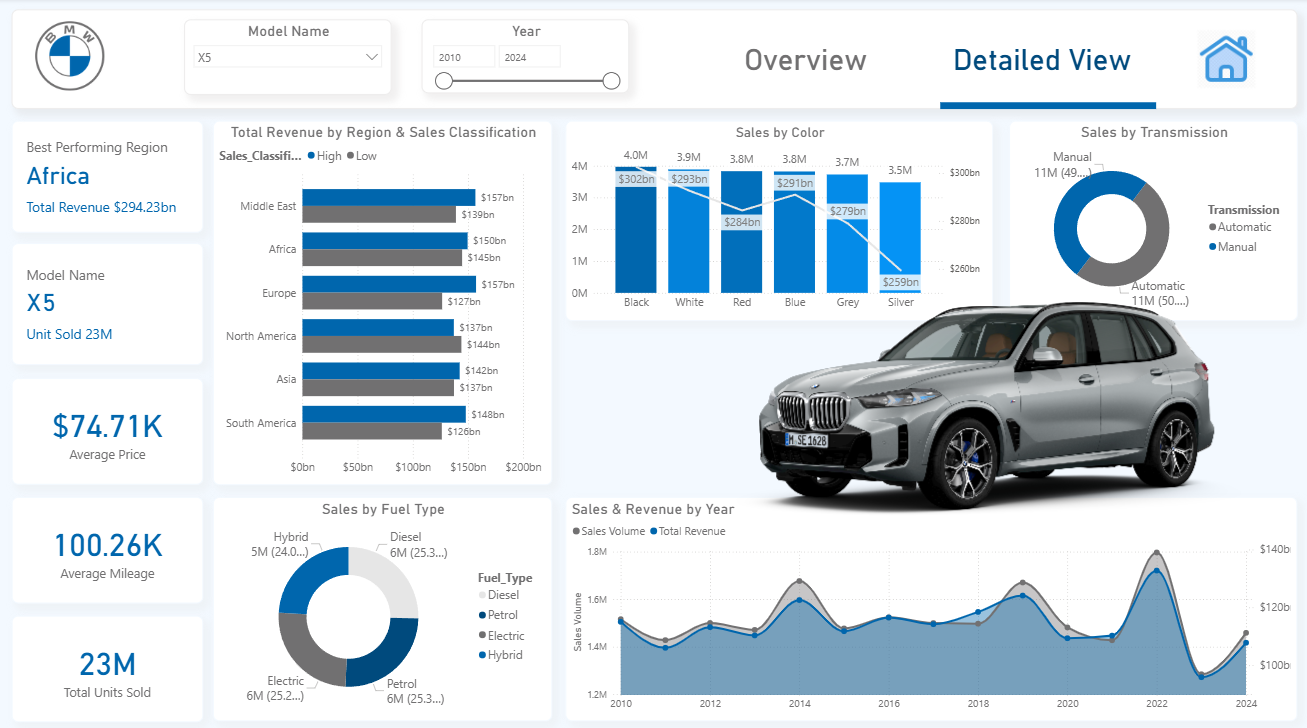

What the dashboard file says about the page in this screenshot:
{"tool":"powerbi","page":{"name":"Detailed View","canvas":[1920,1080],"ordinal":2},"visuals":[{"type":"cardVisual","fields":{"Data":["Min(BMW_Car_Sales_Classification.Region)"]},"box":[18.5,179.1,282,164.7],"z":0},{"type":"card","fields":{"Values":["Measures Table.Average Price"]},"box":[18.5,557.8,282,156.4],"z":1000},{"type":"cardVisual","fields":{"Data":["Min(BMW_Car_Sales_Classification.Model)"]},"box":[18.5,360.2,282,179.1],"z":2000},{"type":"card","fields":{"Values":["Measures Table.Average Mileage"]},"box":[18.5,732.8,282,156.4],"z":3000},{"type":"shape","box":[18.5,16.5,1887.5,146.1],"z":4000},{"type":"card","fields":{"Values":["Measures Table.Total Units Sold"]},"box":[18.5,905.7,282,156.4],"z":5000},{"type":"image","box":[45.3,28.8,115.3,111.1],"z":6000},{"type":"textbox","box":[1035.3,59.7,298.5,80.3],"z":7000},{"type":"shape","box":[1381.1,113,317,88.5],"z":8000},{"type":"textbox","box":[1362.6,59.7,335.5,80.3],"z":9000},{"type":"image","box":[1751.6,35,98.8,109.1],"z":10000},{"type":"lineChart","title":"Sales & Revenue by Year","fields":{"Category":["BMW_Car_Sales_Classification.Year"],"Y":["Sum(BMW_Car_Sales_Classification.Sales_Volume)"],"Y2":["Measures Table.Total Revenue"]},"box":[831.6,732.8,1074.4,329.3],"z":11000},{"type":"lineStackedColumnComboChart","title":"Sales by Color","fields":{"Category":["BMW_Car_Sales_Classification.Color"],"Y":["Sum(BMW_Car_Sales_Classification.Sales_Volume)"],"Y2":["Measures Table.Total Revenue"]},"box":[831.6,179.1,627.8,294.3],"z":12000},{"type":"donutChart","title":"Sales by Fuel Type","fields":{"Category":["BMW_Car_Sales_Classification.Fuel_Type"],"Y":["Sum(BMW_Car_Sales_Classification.Sales_Volume)"]},"box":[312.9,732.8,498.1,329.3],"z":13000},{"type":"slicer","title":"Model Name","fields":{"Values":["BMW_Car_Sales_Classification.Model"]},"box":[271.7,30.9,304.6,111.1],"z":14000},{"type":"slicer","title":"Year","fields":{"Values":["BMW_Car_Sales_Classification.Year"]},"box":[619.6,30.9,304.6,109.1],"z":15000},{"type":"shape","box":[1035.3,20.6,298.5,144.1],"z":16000},{"type":"clusteredBarChart","title":"Total Revenue by Region & Sales Classification","fields":{"Category":["BMW_Car_Sales_Classification.Region"],"Y":["Measures Table.Total Revenue"],"Series":["BMW_Car_Sales_Classification.Sales_Classification"]},"box":[312.9,179.1,498.1,535.2],"z":17000},{"type":"donutChart","title":"Sales by Transmission","fields":{"Category":["BMW_Car_Sales_Classification.Transmission"],"Y":["Sum(BMW_Car_Sales_Classification.Sales_Volume)"]},"box":[1482,179.1,424,294.3],"z":18000},{"type":"imageDB603108E3FF4EBFB8047F5653368E8C","fields":{"imageUrl":["BMW Images.URL"],"imageTitle":["BMW_Car_Sales_Classification.Model"]},"box":[983.9,360.2,922.1,428.1],"z":19000}]}

Visuals, with their boxes in screenshot pixels (x1, y1, x2, y2), scaled from the page's 1920x1080 canvas onto the 1307x728 screenshot:
cardVisual - Min(BMW_Car_Sales_Classification.Region): rect(13, 121, 205, 232)
card - Measures Table.Average Price: rect(13, 376, 205, 481)
cardVisual - Min(BMW_Car_Sales_Classification.Model): rect(13, 243, 205, 364)
card - Measures Table.Average Mileage: rect(13, 494, 205, 599)
shape: rect(13, 11, 1297, 110)
card - Measures Table.Total Units Sold: rect(13, 611, 205, 716)
image: rect(31, 19, 109, 94)
textbox: rect(705, 40, 908, 94)
shape: rect(940, 76, 1156, 136)
textbox: rect(928, 40, 1156, 94)
image: rect(1192, 24, 1260, 97)
"Sales & Revenue by Year" lineChart: rect(566, 494, 1297, 716)
"Sales by Color" lineStackedColumnComboChart: rect(566, 121, 993, 319)
"Sales by Fuel Type" donutChart: rect(213, 494, 552, 716)
"Model Name" slicer: rect(185, 21, 392, 96)
"Year" slicer: rect(422, 21, 629, 94)
shape: rect(705, 14, 908, 111)
"Total Revenue by Region & Sales Classification" clusteredBarChart: rect(213, 121, 552, 481)
"Sales by Transmission" donutChart: rect(1009, 121, 1297, 319)
imageDB603108E3FF4EBFB8047F5653368E8C - BMW Images.URL x BMW_Car_Sales_Classification.Model: rect(670, 243, 1297, 531)
